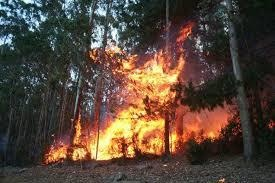fire: (66, 21, 242, 165)
